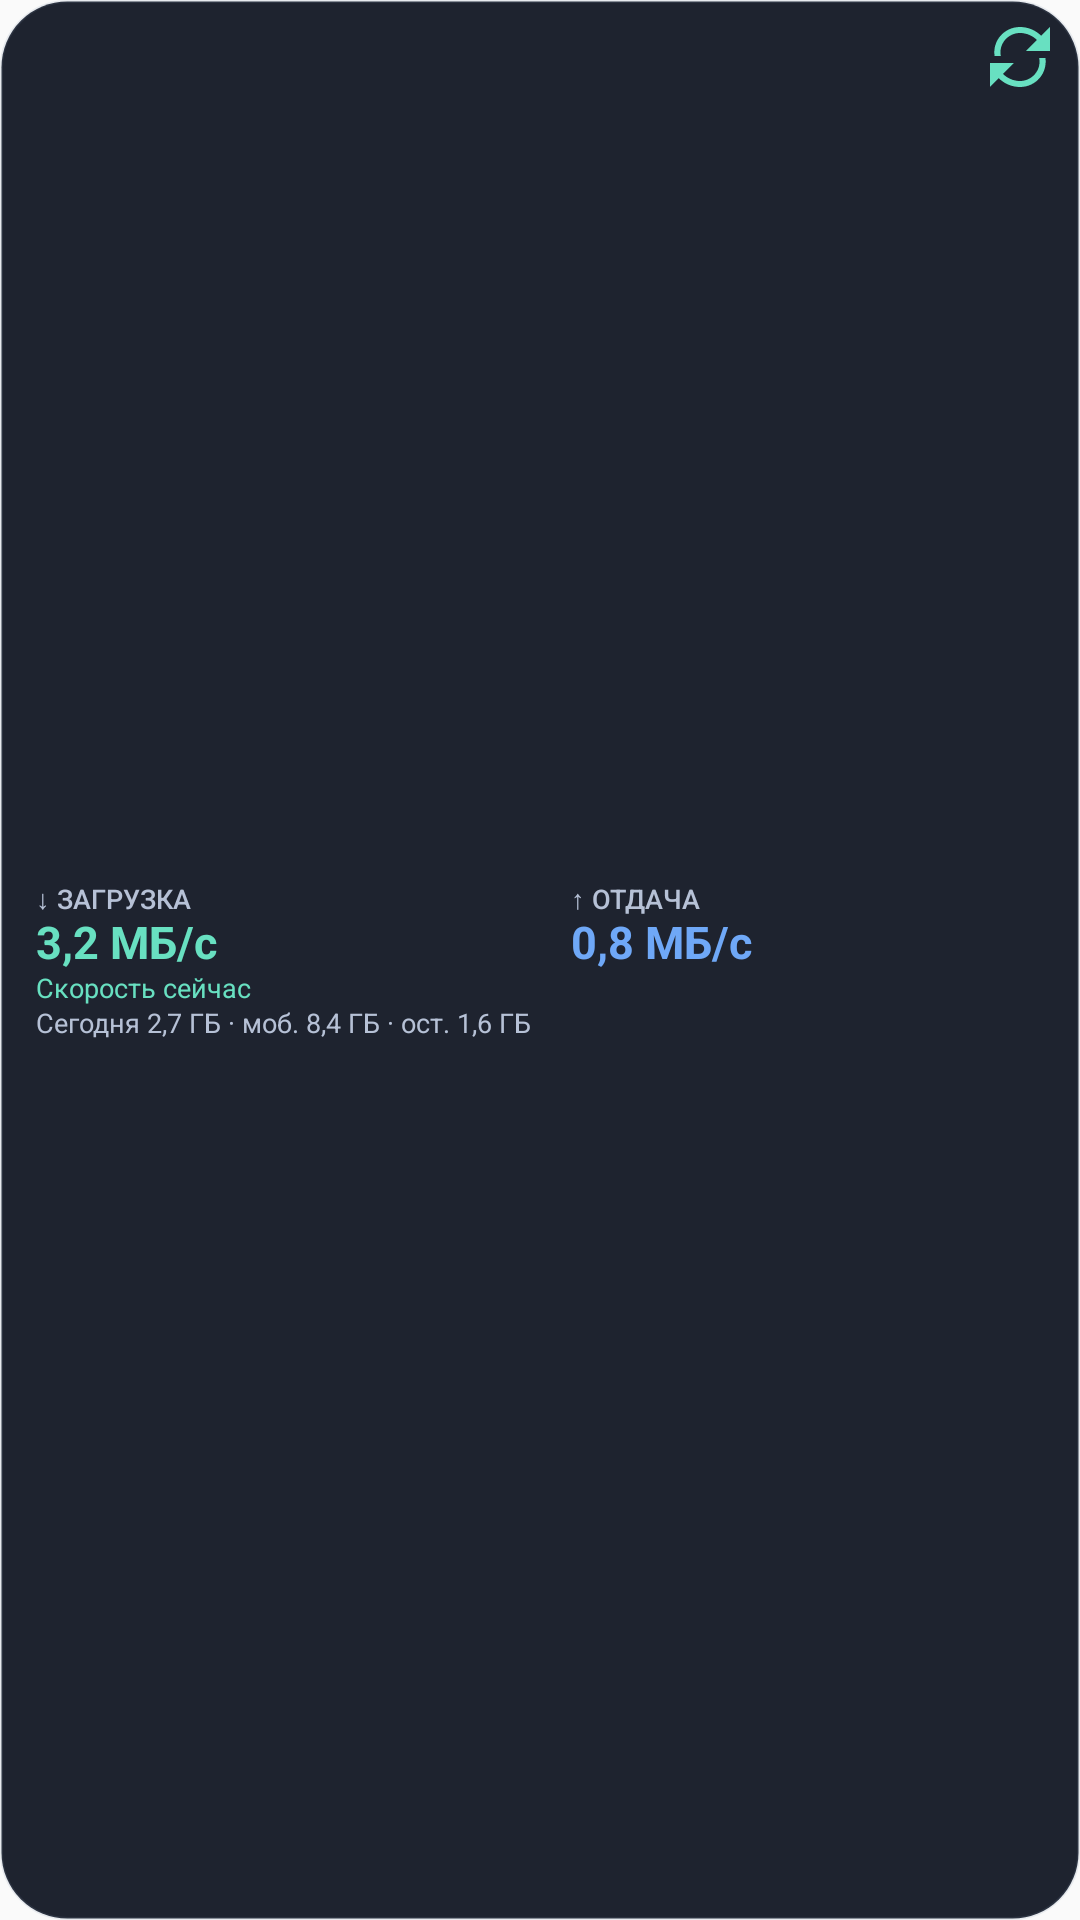

Named icons in this screenshot (1080w x 1920h) and their bounding boxes, [x1=x1, y1=y1, x2=x2, y2=y2]:
Обновить статистику: [x1=990, y1=27, x2=1050, y2=87]
